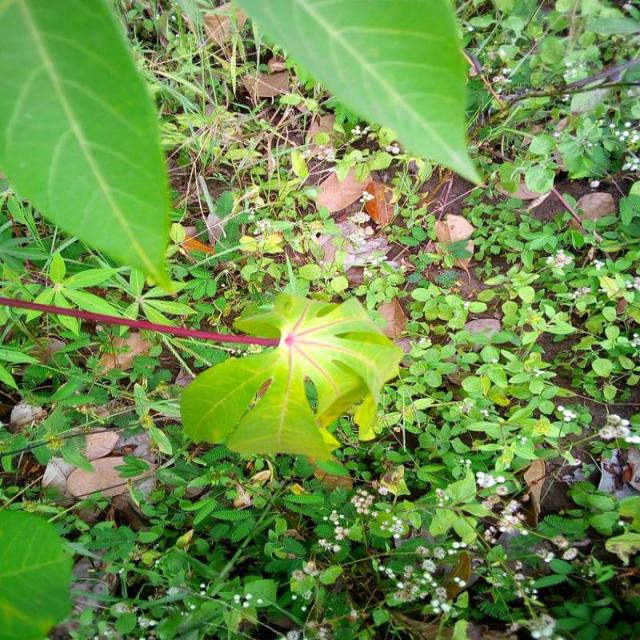cassava leaf: (0, 0, 180, 295), (230, 0, 487, 188), (178, 290, 404, 466), (0, 505, 74, 637)
